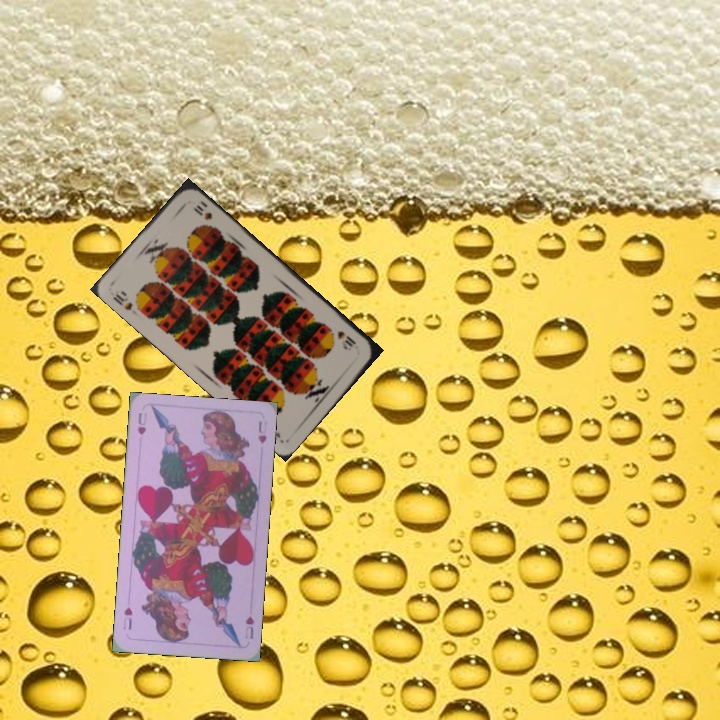HU: (241, 612, 257, 642), (134, 409, 149, 437)
S10: (109, 287, 135, 313), (333, 327, 359, 350)
